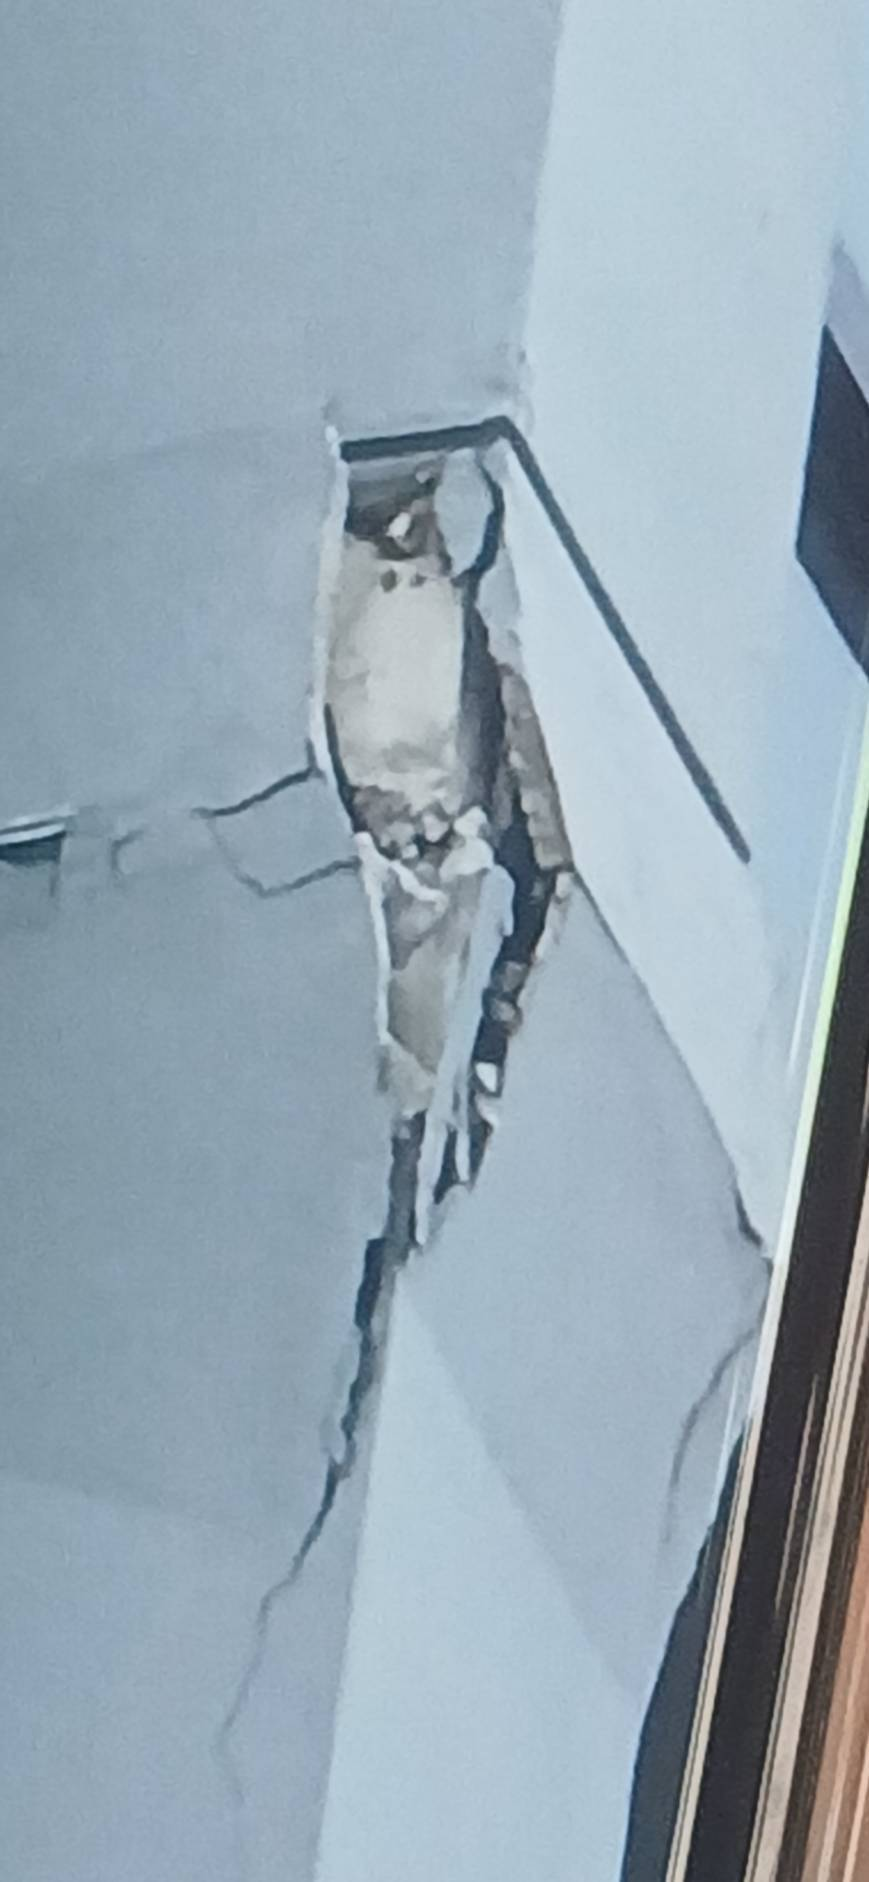High: (2, 391, 791, 1842)
